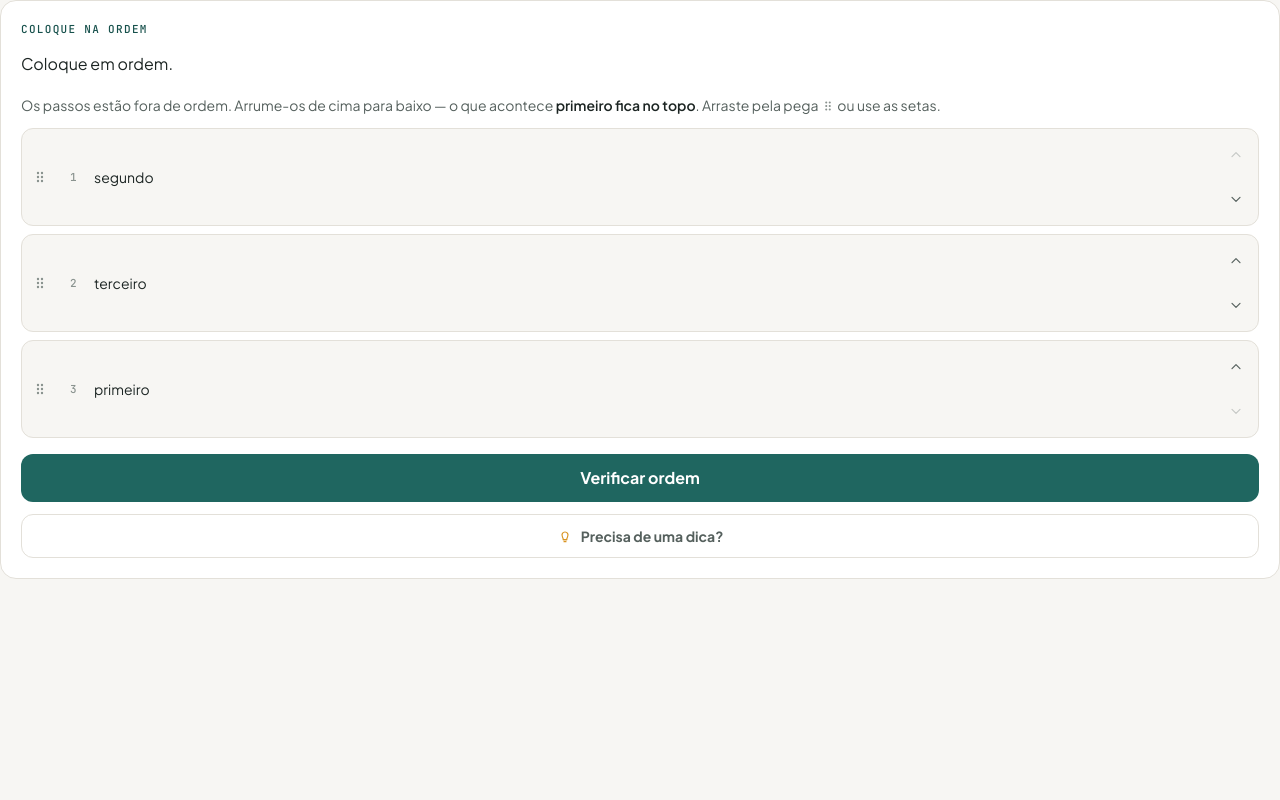
Test case: verificação › mexer depois de verificar descarta o retorno anterior
The image size is (1280, 800).
What coordinates should you click on to do the following:
click the button "Verificar ordem"
I would click on:
 (640, 478)
Its box is [21,454,1259,502].
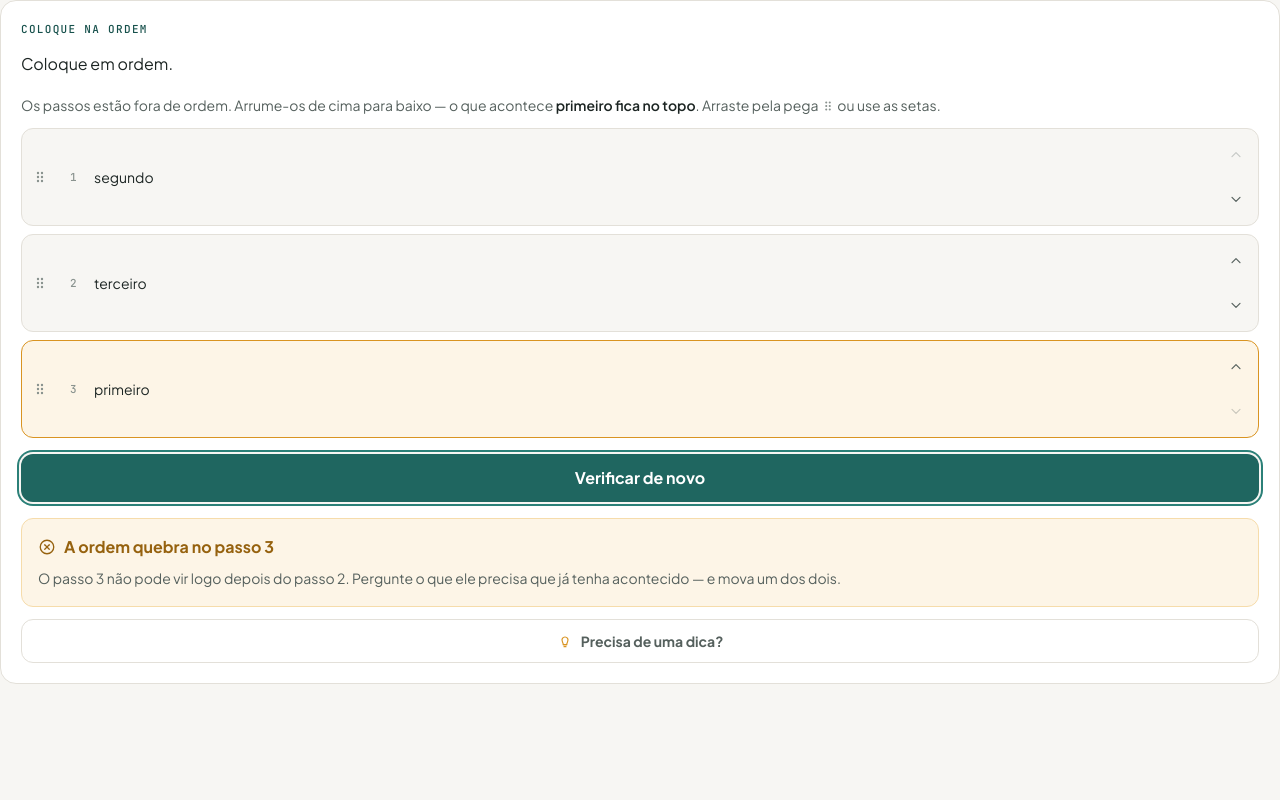
Expected: the text "A ordem quebra no passo 3" is shown, [38,536,274,557]
What coordinates should you click on to do the following:
click the button named "Mover \"segundo\" para baixo"
I would click on:
 (1236, 199)
Its box is [1214,177,1258,221].
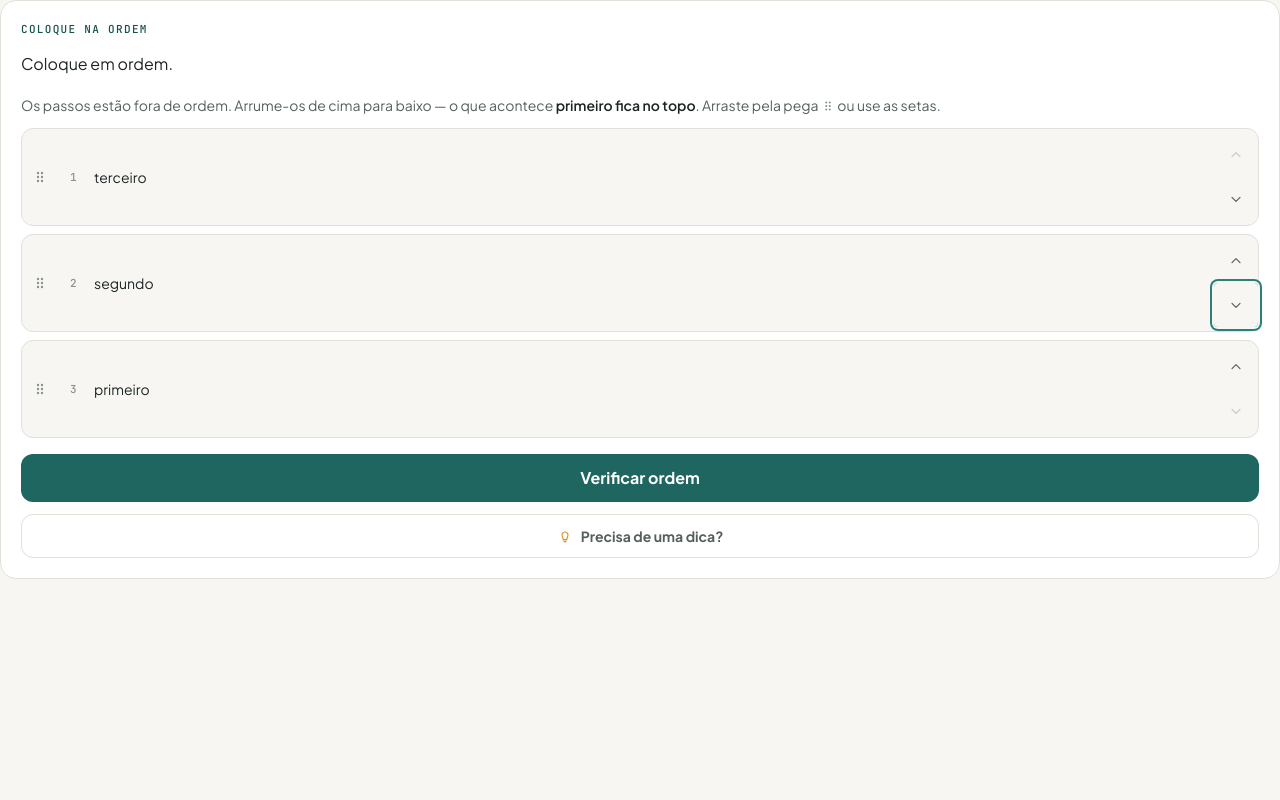
Expected: the text "A ordem quebra" is gone
